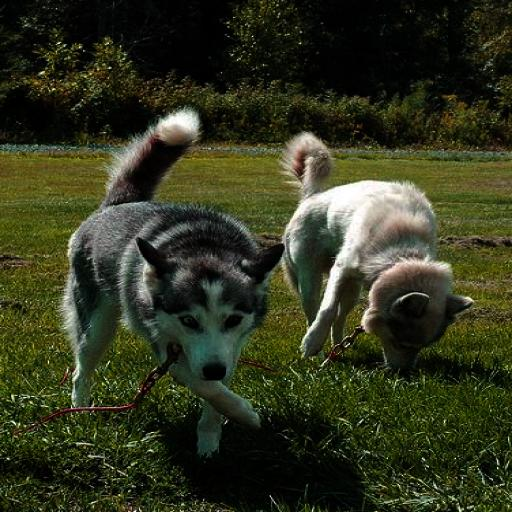dog_face: (119, 236, 280, 382), (361, 271, 471, 372)
